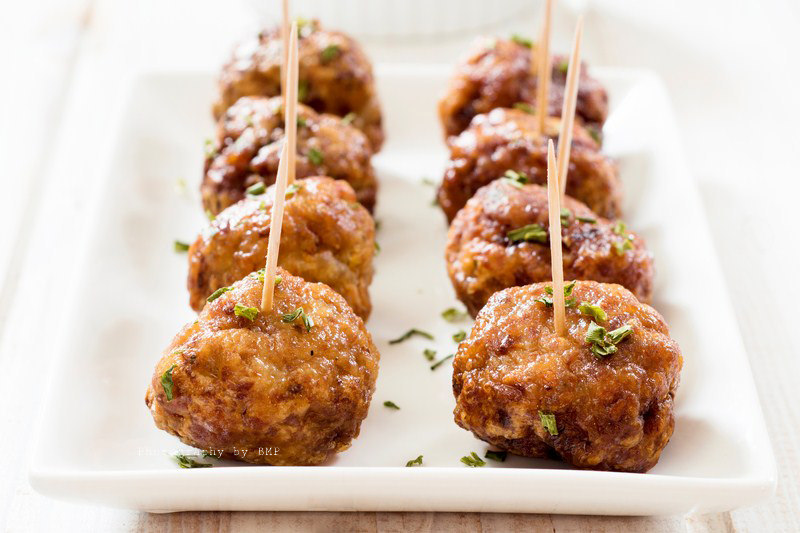meatballs: (441, 30, 677, 462), (188, 22, 381, 439), (444, 282, 685, 469), (136, 285, 382, 456), (436, 181, 652, 300)
